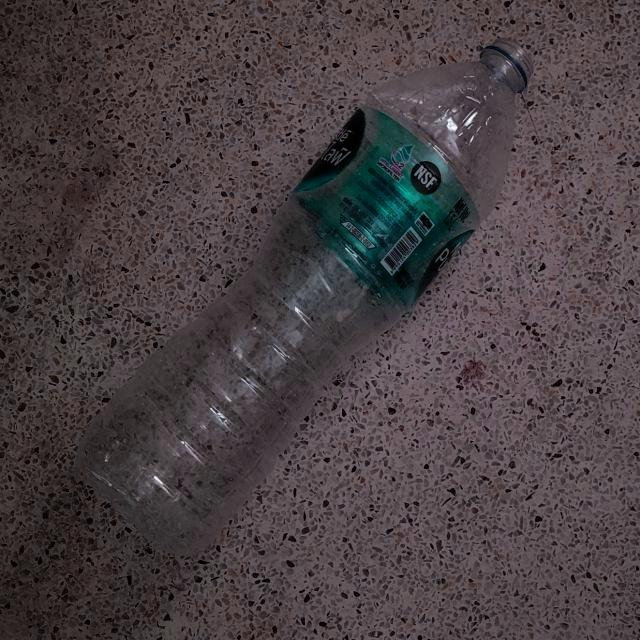bottle: (67, 30, 550, 567)
